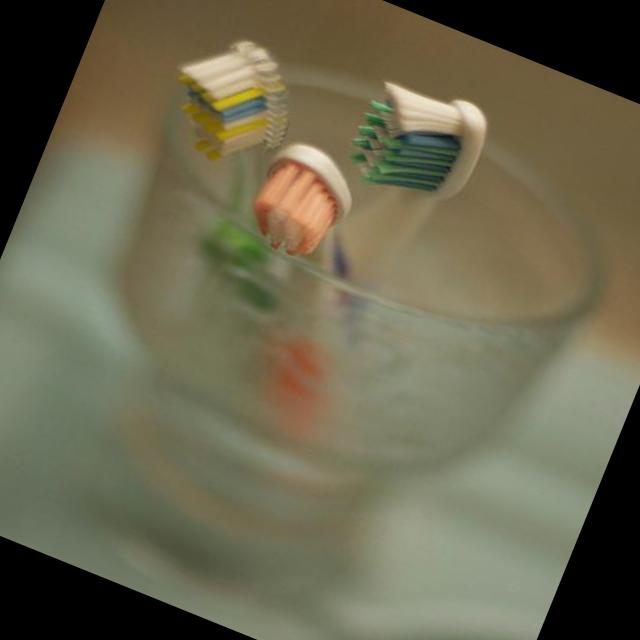cup: (5, 11, 636, 640)
toothbrush: (304, 64, 496, 314), (134, 15, 318, 232), (234, 130, 390, 286)
